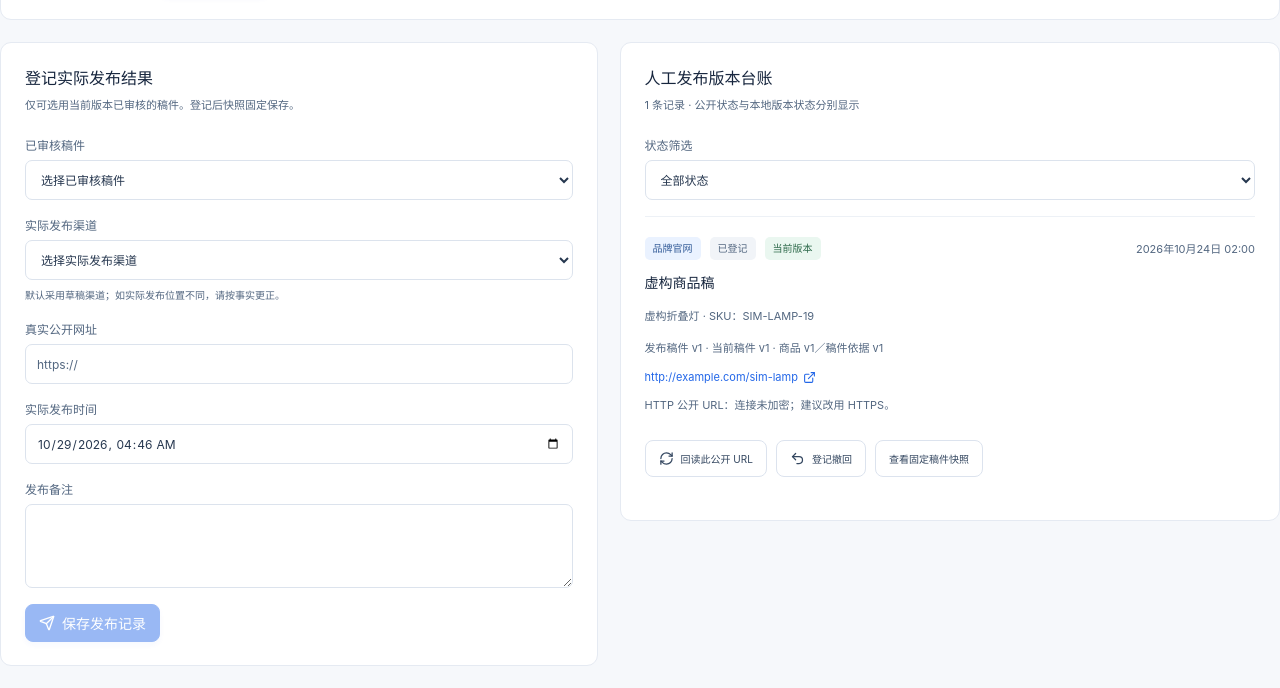
requires withdrawal reason and explicit confirmation
(page scrolled)
Click the button "登记撤回": (821, 459) [776, 440, 866, 477]
(page scrolled)
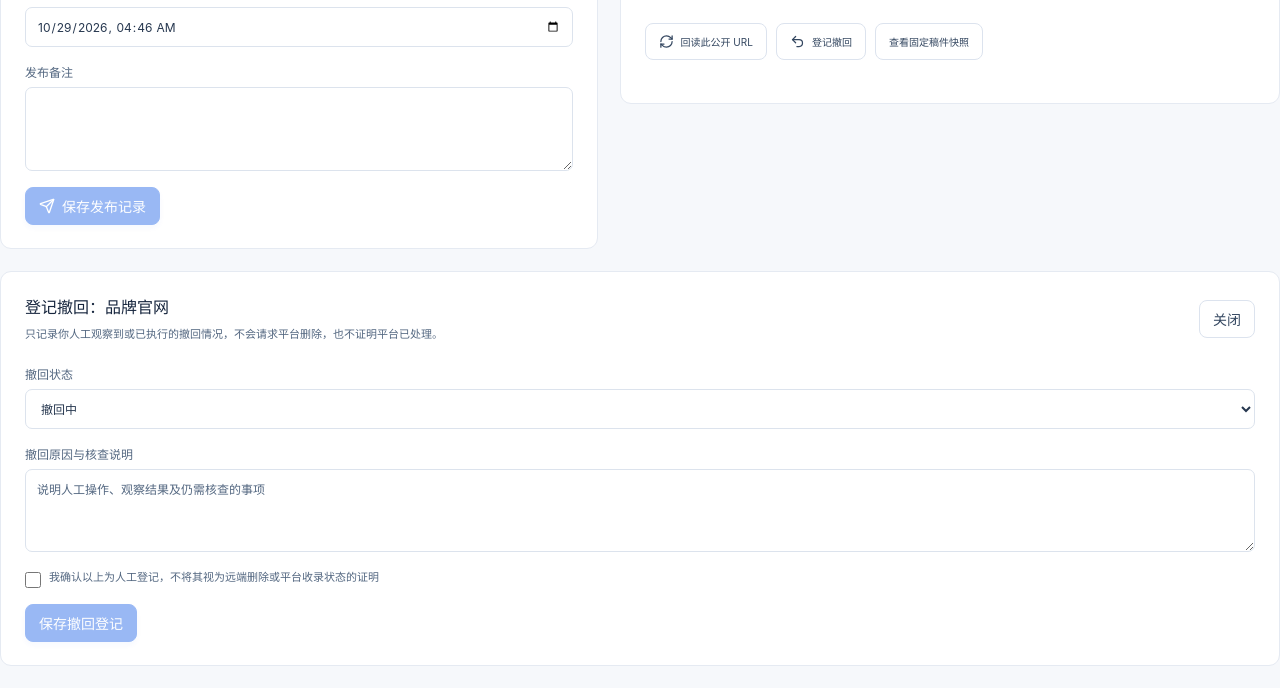
Expected: the button "保存撤回登记" is disabled, [25, 604, 137, 642]
In the text box labelled "撤回原因与核查说明": (640, 511) [25, 469, 1255, 552], type "虚构页面整改，平台缓存仍待人工核查"
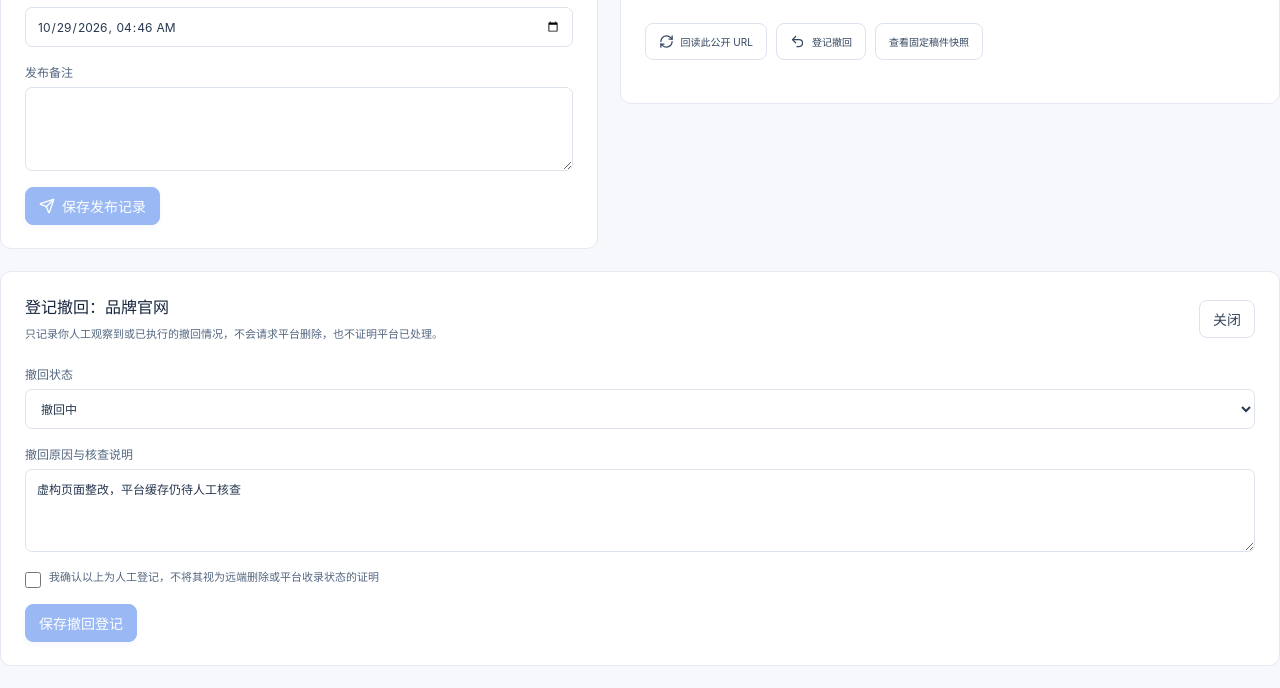
Select "撤回待核查" in the dropdown labelled "撤回状态": (640, 409) [25, 389, 1255, 429]
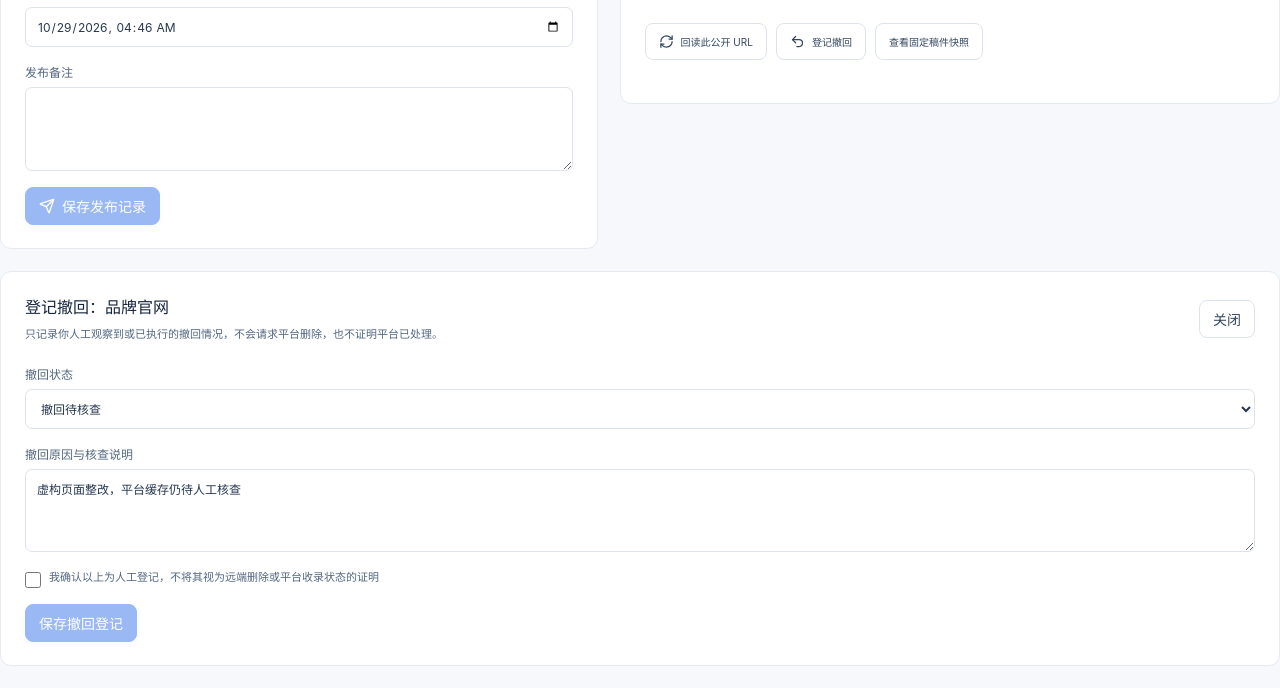
Expected: the button "保存撤回登记" is disabled, [25, 604, 137, 642]
Click the checkbox: (33, 580) [25, 572, 41, 588]
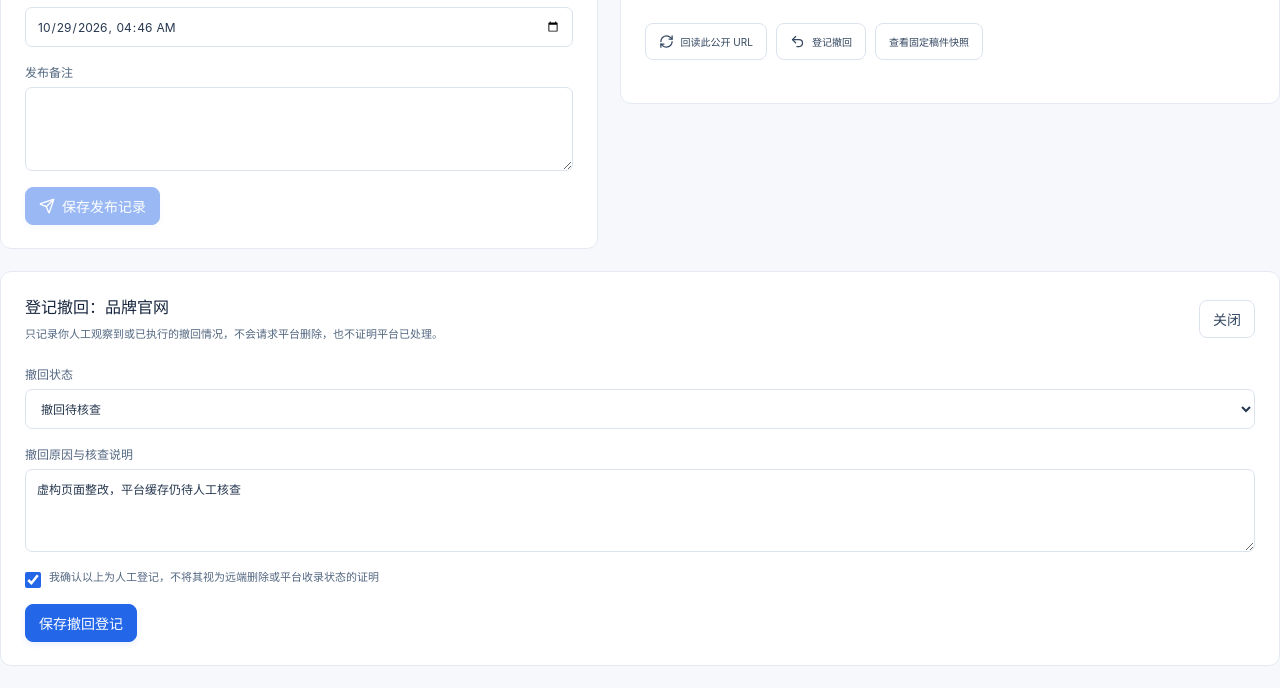
Expected: the button "保存撤回登记" is enabled
Click the button "保存撤回登记": (81, 623) [25, 604, 137, 642]
(page scrolled)
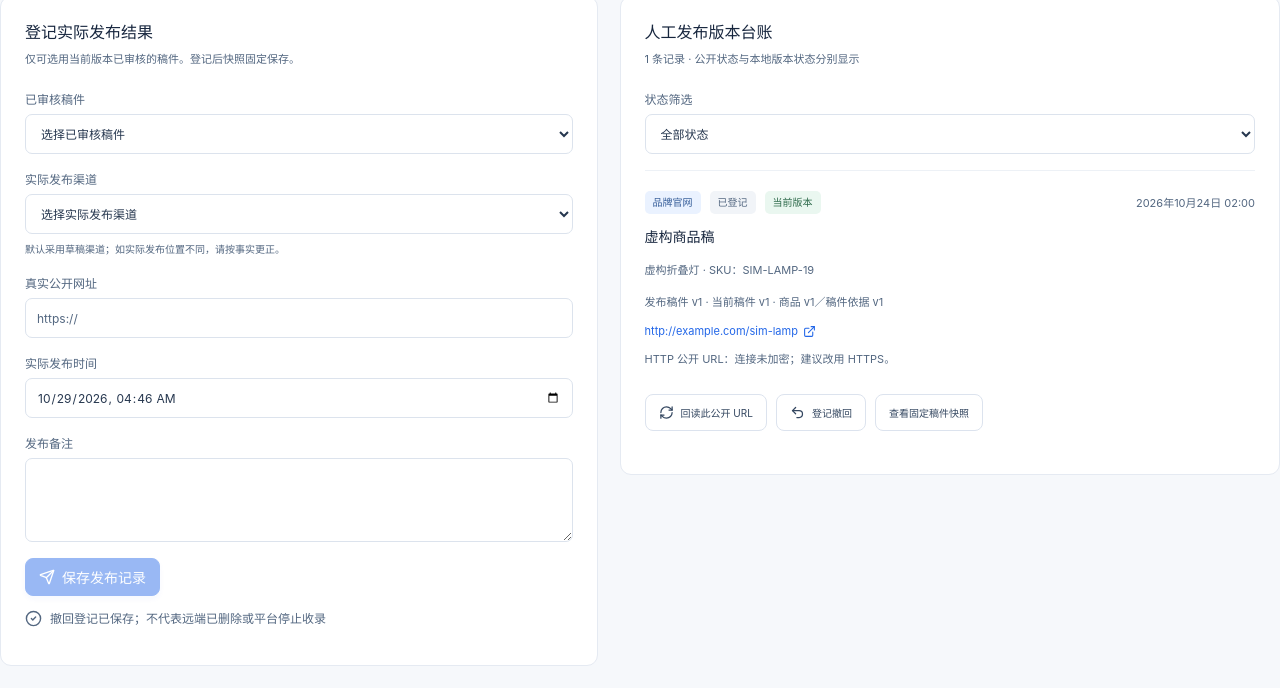
Expected: the text "撤回登记已保存；不代表远端已删除或平台停止收录" is shown, [25, 610, 326, 627]
